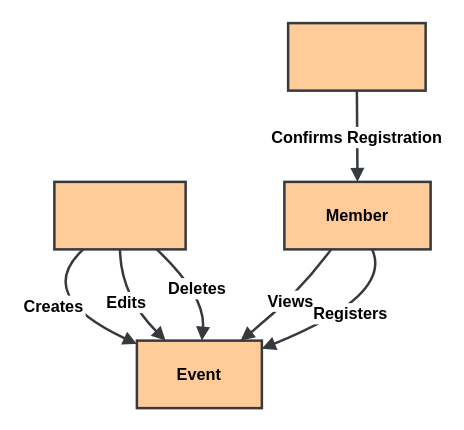
The diagram is 464 pixels wide and 430 high, and some of its shapes have lost their labels. The shapes that lost their labels are listed below. From the top down, each one's centre as x and y in pixels, then its label:
At (356,56): "System".
At (119,215): "Admin".
